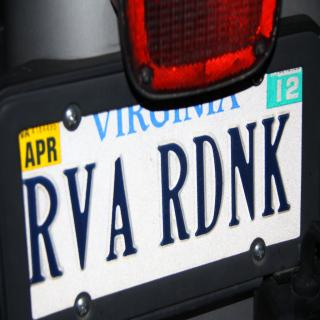license: (15, 66, 305, 320)
